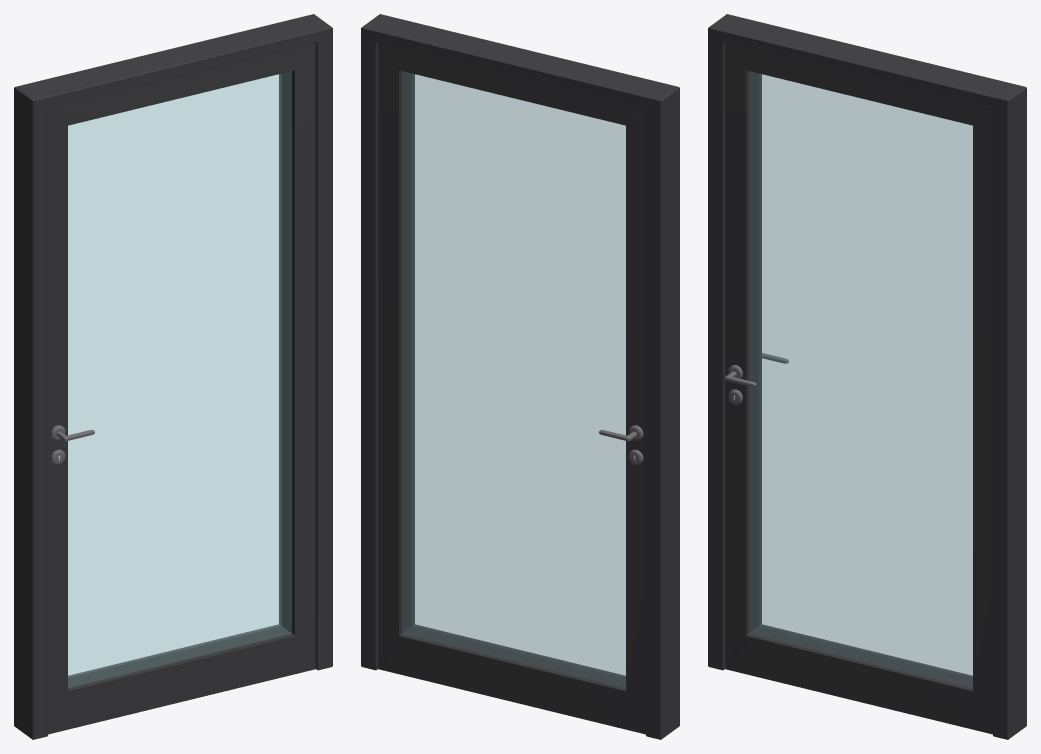
The model's file is PortaDeVidro.fbx.
The picture shows the model from 3 angles, left to right: view 1: azimuth 30°, elevation 25°; view 2: azimuth 150°, elevation 25°; view 3: azimuth 330°, elevation 25°; orthographic projection.
Visible parts, largest first — view 1: PortaVidro.Vidro, PortaVidro.Metal, PortaVidro.Barente; view 2: PortaVidro.Vidro, PortaVidro.Metal, PortaVidro.Barente; view 3: PortaVidro.Vidro, PortaVidro.Metal, PortaVidro.Barente.
Boxes of the visible parts, x1,y1,x2,y2 form: PortaVidro.Vidro: (68, 71, 291, 687); PortaVidro.Metal: (48, 43, 315, 734); PortaVidro.Barente: (14, 14, 332, 739); PortaVidro.Vidro: (402, 71, 625, 687); PortaVidro.Metal: (378, 43, 645, 734); PortaVidro.Barente: (361, 14, 679, 739); PortaVidro.Vidro: (749, 71, 972, 687); PortaVidro.Metal: (725, 43, 992, 734); PortaVidro.Barente: (708, 14, 1026, 739).
Size of the model in its own units: 109 by 221 by 21.78.
